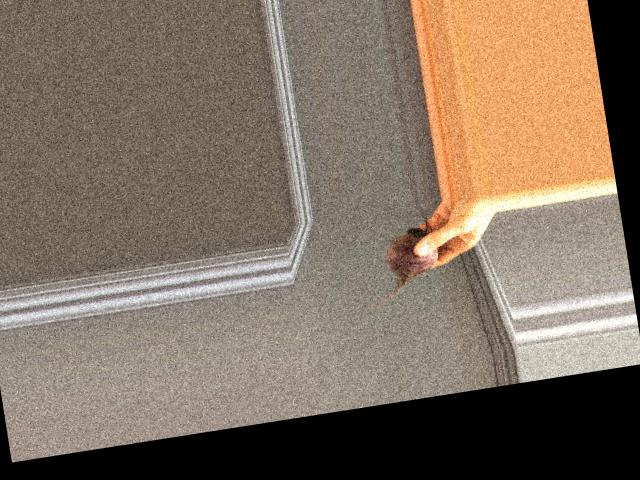beet: (351, 202, 444, 307)
